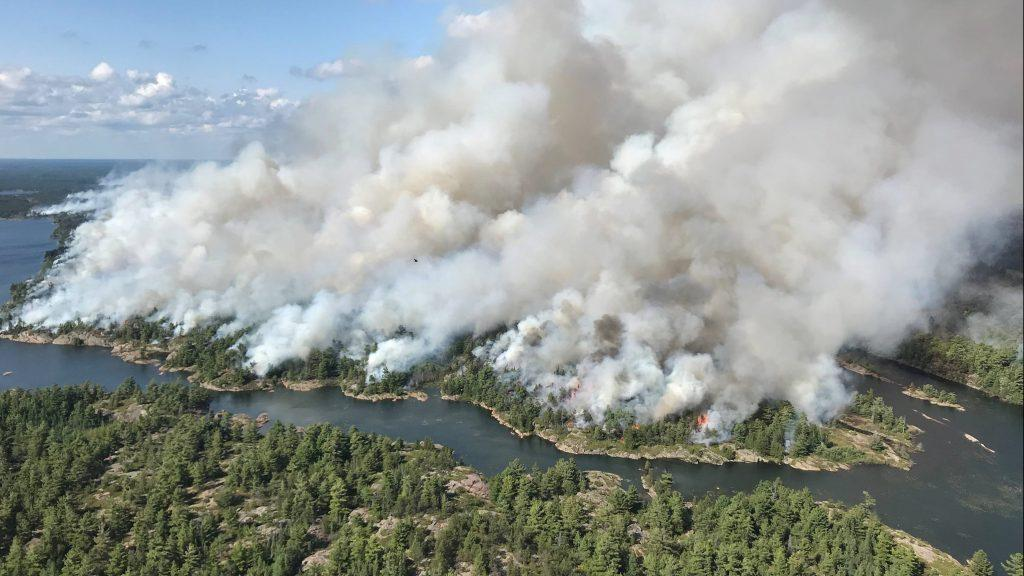smoke: (19, 41, 855, 443)
